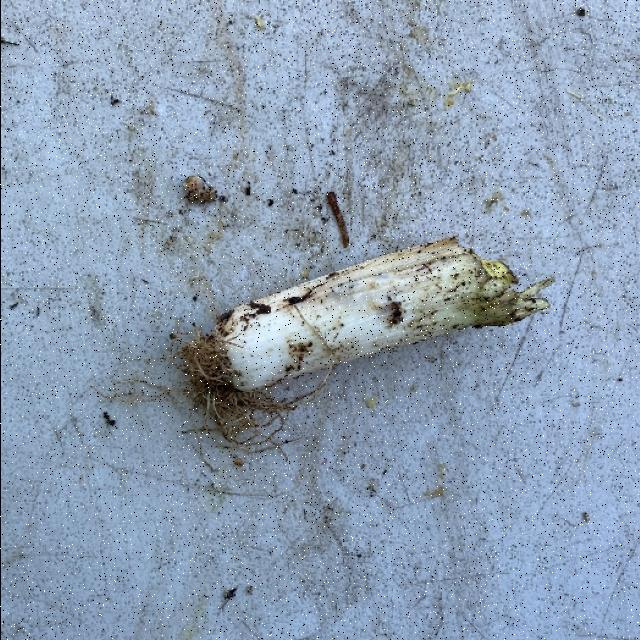organik: (190, 236, 552, 422)
